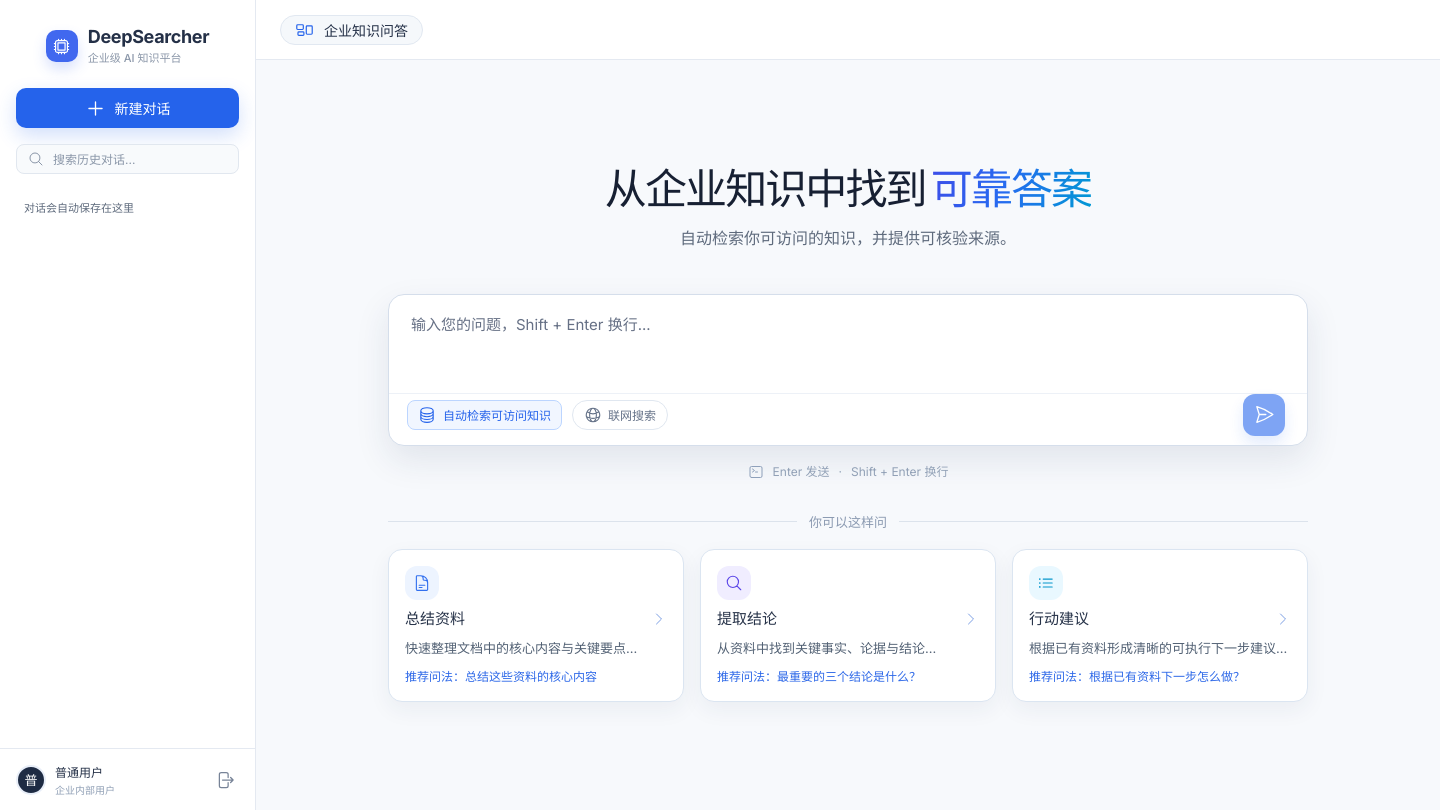
Test: 推荐卡片只填充问题，不会自动发送
Click the text "总结资料": [435, 619] box x1=405 y1=609 x2=465 y2=629
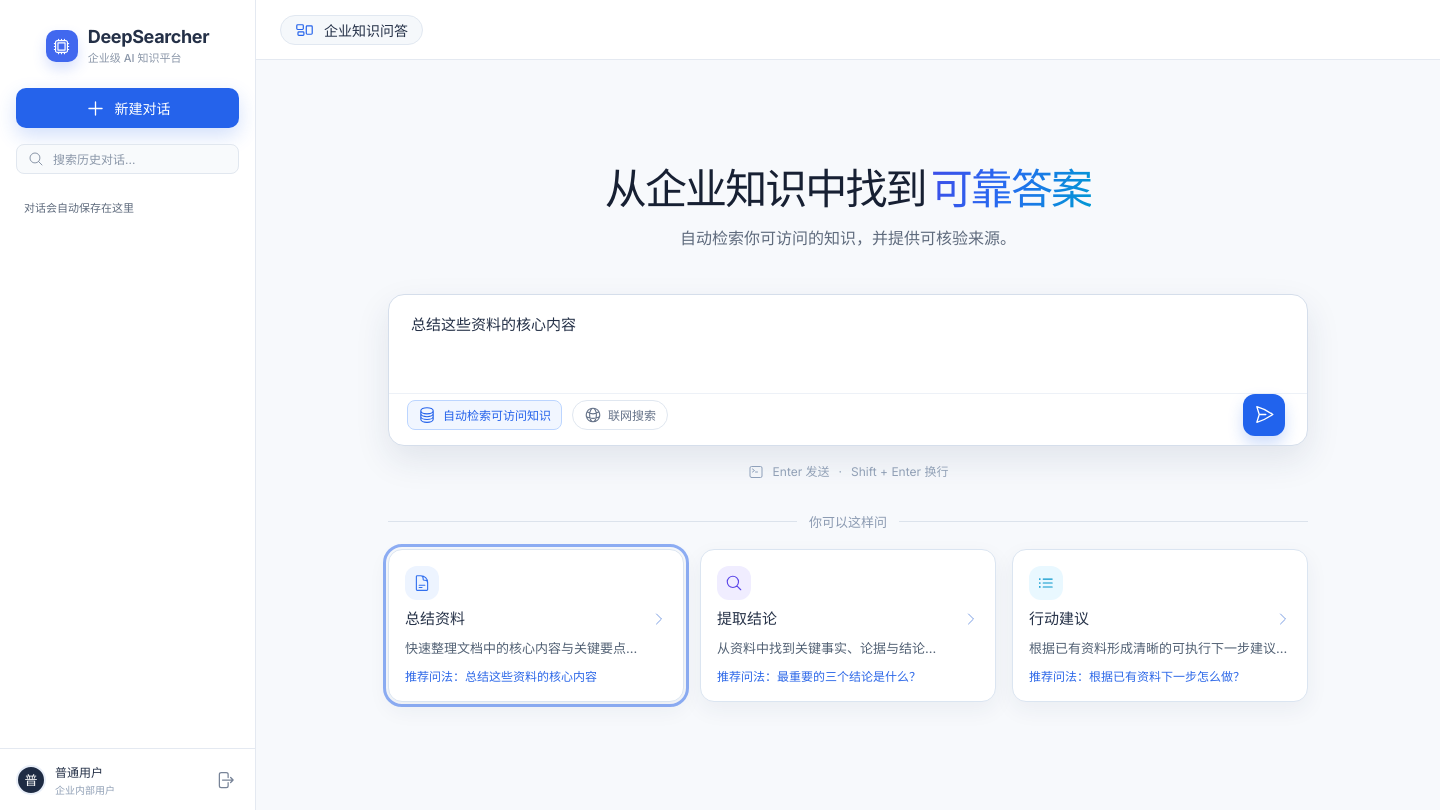
Expected: the text box named "输入问题" holds "总结这些资料的核心内容", x1=389 y1=295 x2=1307 y2=393
